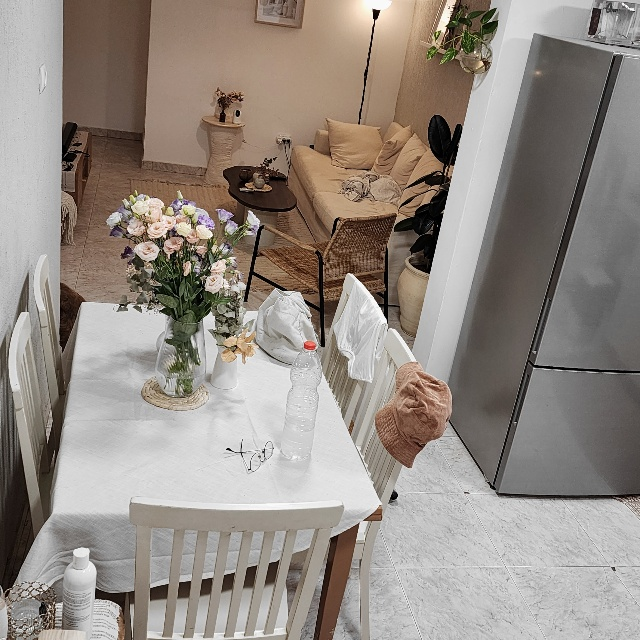glasses: (224, 438, 277, 474)
